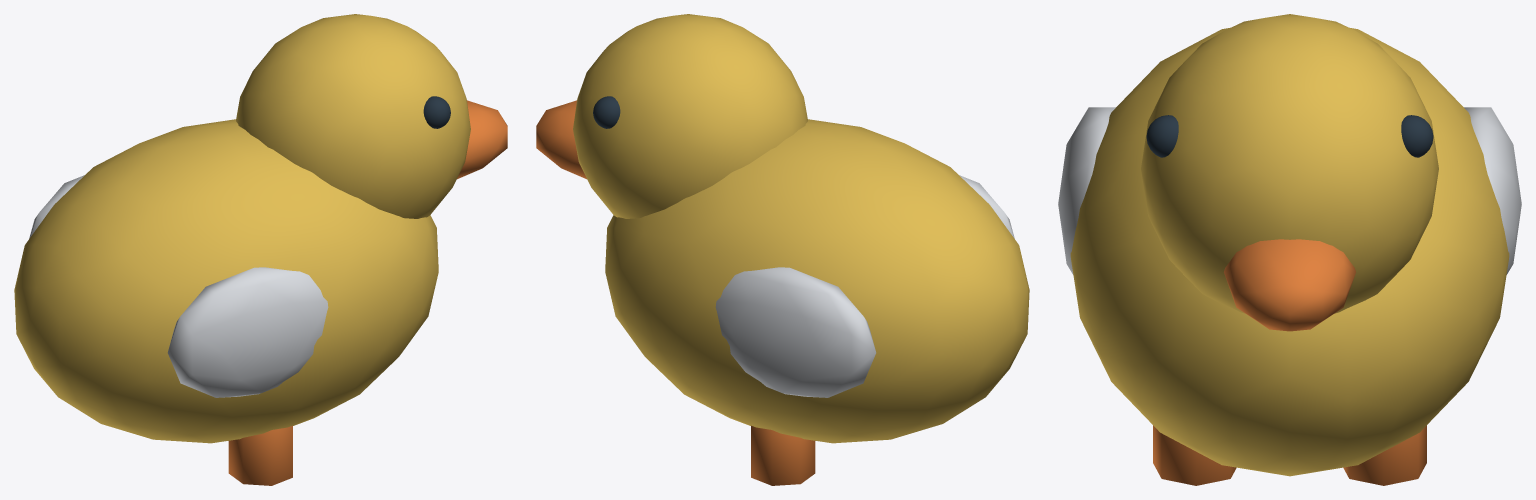
The model's file is DuckBeacon_Mascot.glb.
3 views of the same model, side by side, from view 1: azimuth 30°, elevation 25°; view 2: azimuth 150°, elevation 25°; view 3: azimuth 270°, elevation 25° (orthographic). The views are drawn at different scales.
Visible parts, largest first — view 1: DuckBody, DuckHead, DuckWingLeft, DuckFootLeft, DuckBeak, DuckEyeLeft, DuckWingRight; view 2: DuckBody, DuckHead, DuckWingRight, DuckFootRight, DuckBeak, DuckEyeRight, DuckWingLeft; view 3: DuckBody, DuckHead, DuckBeak, DuckWingLeft, DuckWingRight, DuckFootLeft, DuckFootRight, DuckEyeLeft, DuckEyeRight.
Part boxes in pixels (left/top/right/bottom): DuckBody: left=14, top=119, right=438, bottom=443; DuckHead: left=236, top=14, right=470, bottom=218; DuckWingLeft: left=167, top=267, right=328, bottom=397; DuckFootLeft: left=228, top=425, right=292, bottom=485; DuckBeak: left=457, top=100, right=507, bottom=179; DuckEyeLeft: left=423, top=96, right=450, bottom=128; DuckWingRight: left=29, top=175, right=84, bottom=238; DuckBody: left=605, top=119, right=1029, bottom=443; DuckHead: left=573, top=14, right=807, bottom=218; DuckWingRight: left=715, top=267, right=876, bottom=397; DuckFootRight: left=751, top=425, right=815, bottom=485; DuckBeak: left=536, top=100, right=586, bottom=179; DuckEyeRight: left=593, top=96, right=620, bottom=128; DuckWingLeft: left=959, top=175, right=1014, bottom=238; DuckBody: left=1070, top=27, right=1509, bottom=476; DuckHead: left=1141, top=14, right=1438, bottom=313; DuckBeak: left=1224, top=239, right=1355, bottom=331; DuckWingLeft: left=1058, top=107, right=1115, bottom=274; DuckWingRight: left=1464, top=107, right=1521, bottom=274; DuckFootLeft: left=1153, top=425, right=1236, bottom=485; DuckFootRight: left=1343, top=425, right=1426, bottom=485; DuckEyeLeft: left=1146, top=115, right=1178, bottom=157; DuckEyeRight: left=1401, top=115, right=1433, bottom=157.
Size of the model in its own units: 133 by 104 by 84.
